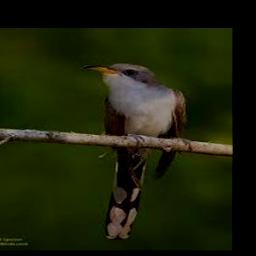Cuckoo: (81, 64, 185, 239)
